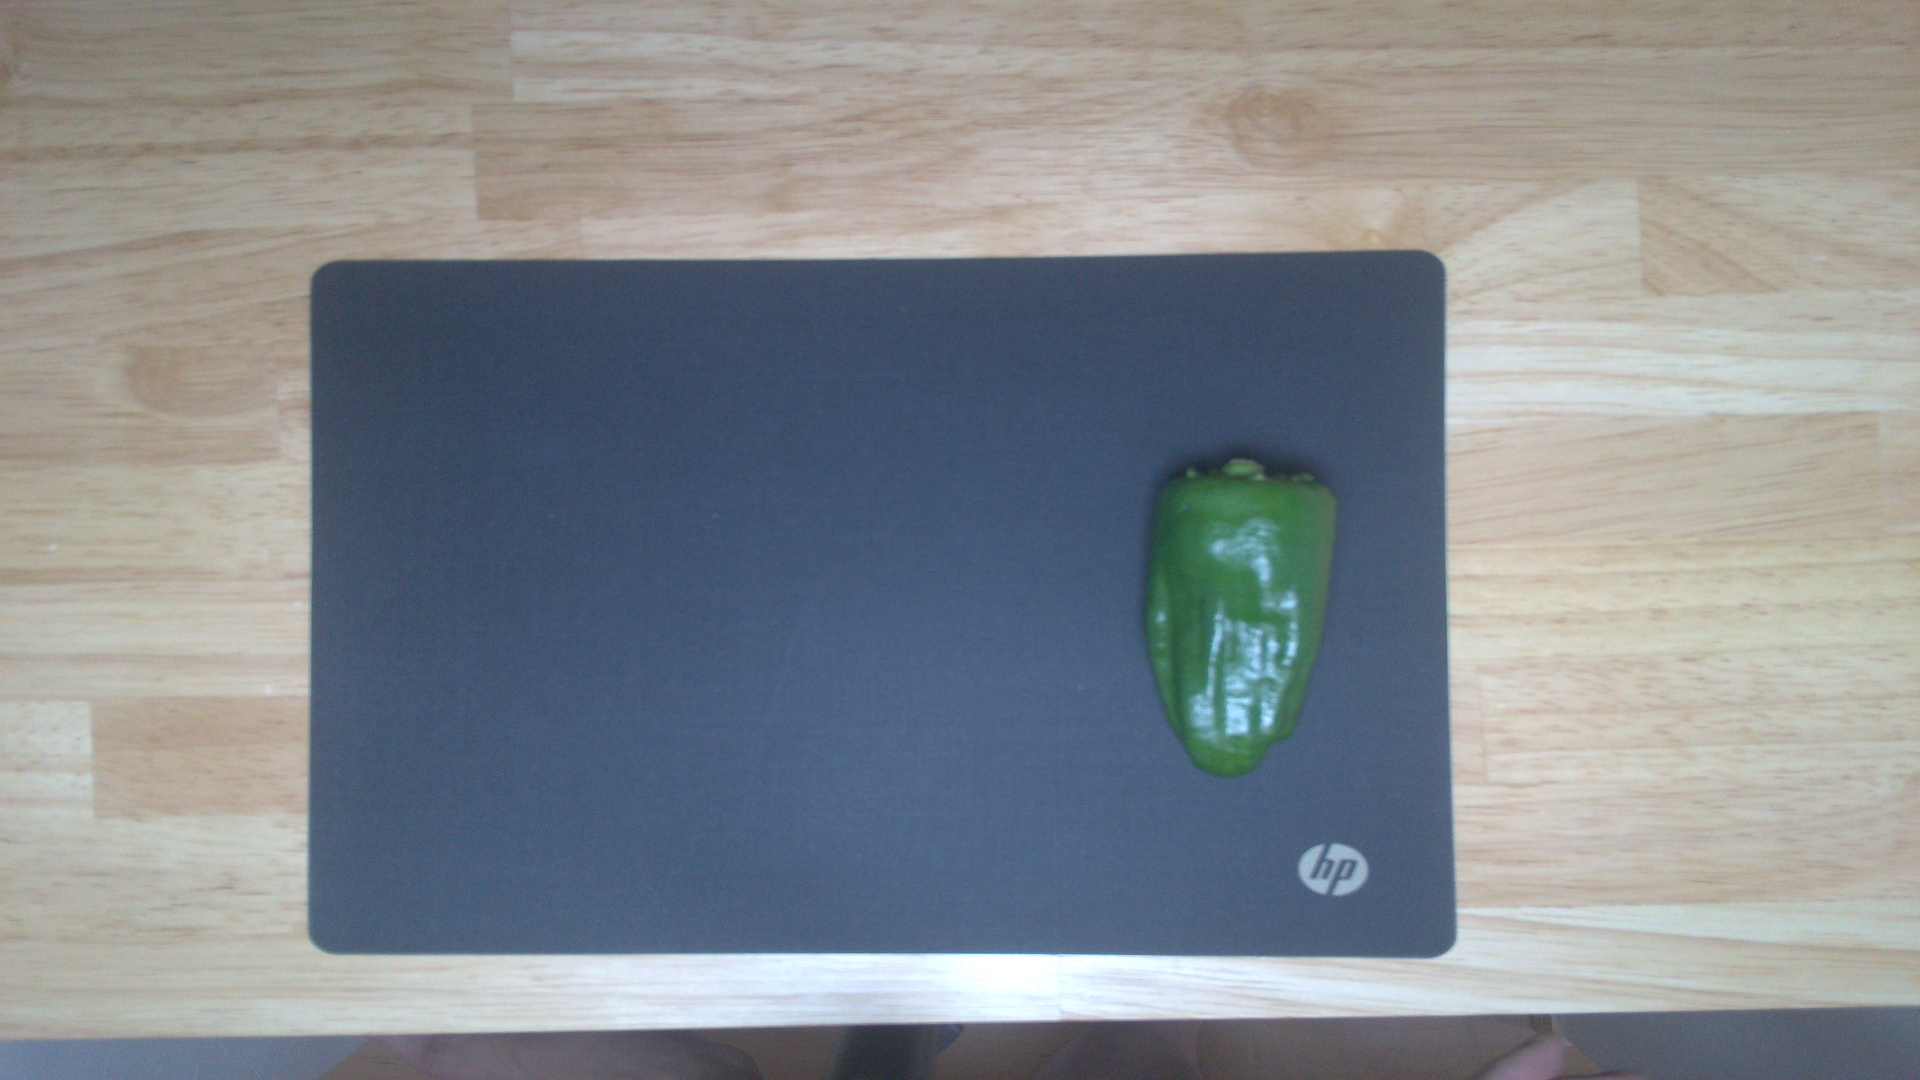Piman: (1135, 454, 1338, 778)
